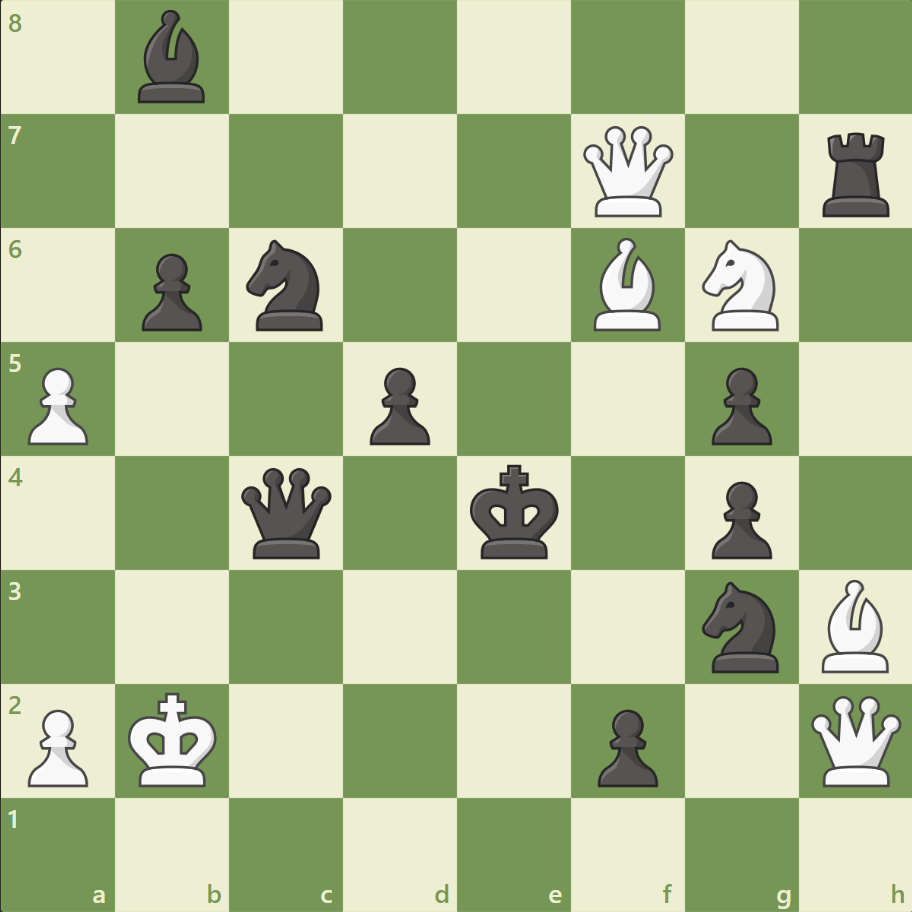B: (585, 233, 669, 336), (812, 574, 896, 676)
K: (124, 685, 224, 793)
N: (692, 234, 789, 337)
P: (20, 359, 95, 450), (20, 700, 95, 791)
Q: (578, 122, 677, 222), (805, 690, 904, 789)
b: (131, 6, 215, 109)
k: (465, 458, 565, 566)
n: (238, 234, 335, 337), (692, 575, 789, 677)
p: (133, 246, 208, 337), (701, 359, 776, 450), (701, 473, 776, 564), (361, 359, 435, 450), (588, 700, 662, 791)
q: (237, 463, 336, 562)
r: (814, 125, 897, 222)
